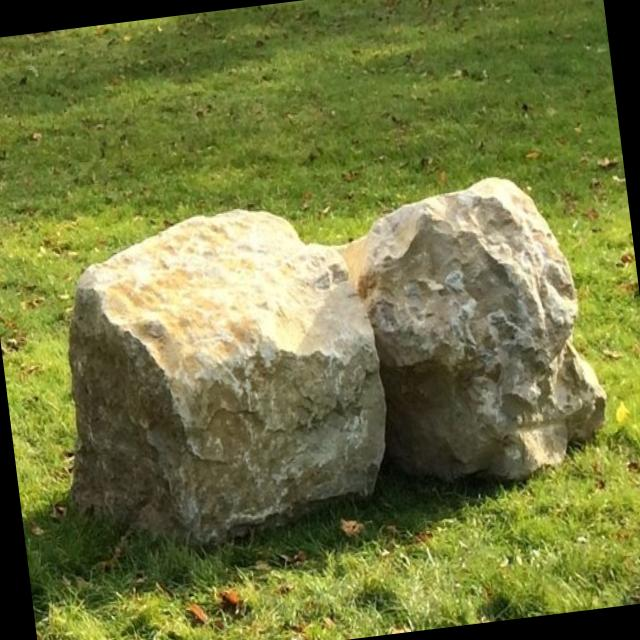stone: (69, 211, 386, 542), (344, 177, 606, 479)
